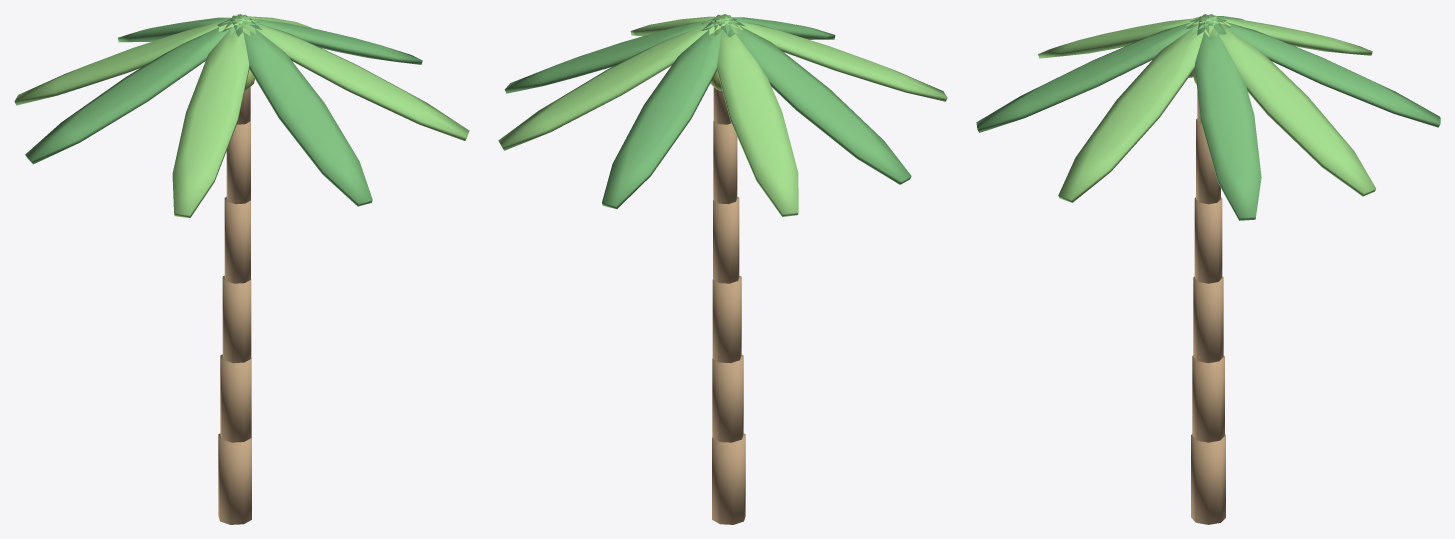
File: Prop_Palm.fbx
The picture shows the model from 3 angles, left to right: view 1: azimuth 30°, elevation 25°; view 2: azimuth 150°, elevation 25°; view 3: azimuth 270°, elevation 25°; orthographic projection.
Parts seen in each view (by area): view 1: Prop_Palm; view 2: Prop_Palm; view 3: Prop_Palm.
Boxes of the visible parts, x1,y1,x2,y2 form: Prop_Palm: [14, 14, 469, 524]; Prop_Palm: [498, 14, 947, 524]; Prop_Palm: [976, 14, 1440, 524].
Size of the model in its own units: 7.34 by 8.82 by 7.38.
